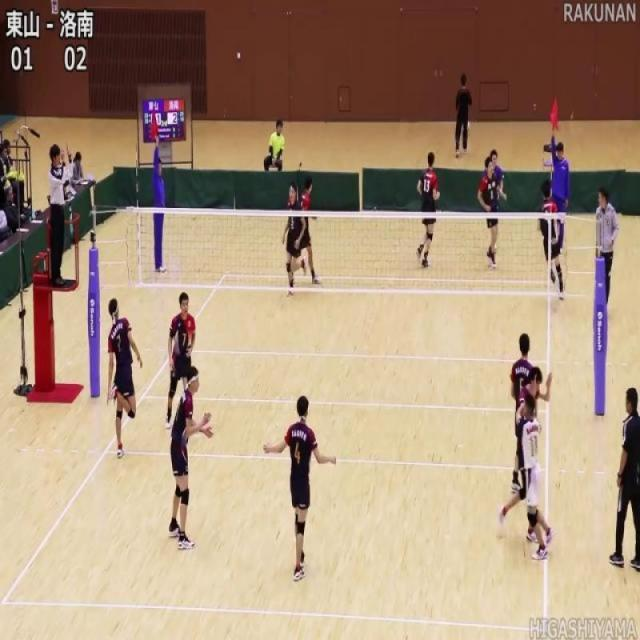volleyball: (466, 119, 470, 132)
